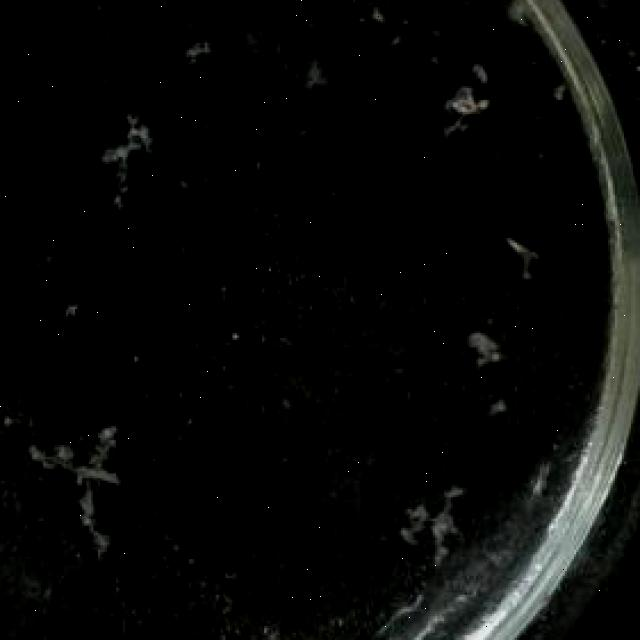Microplastic: (41, 416, 157, 559), (89, 104, 175, 204), (406, 476, 480, 590), (481, 217, 546, 295), (451, 50, 492, 138), (474, 316, 508, 374)
